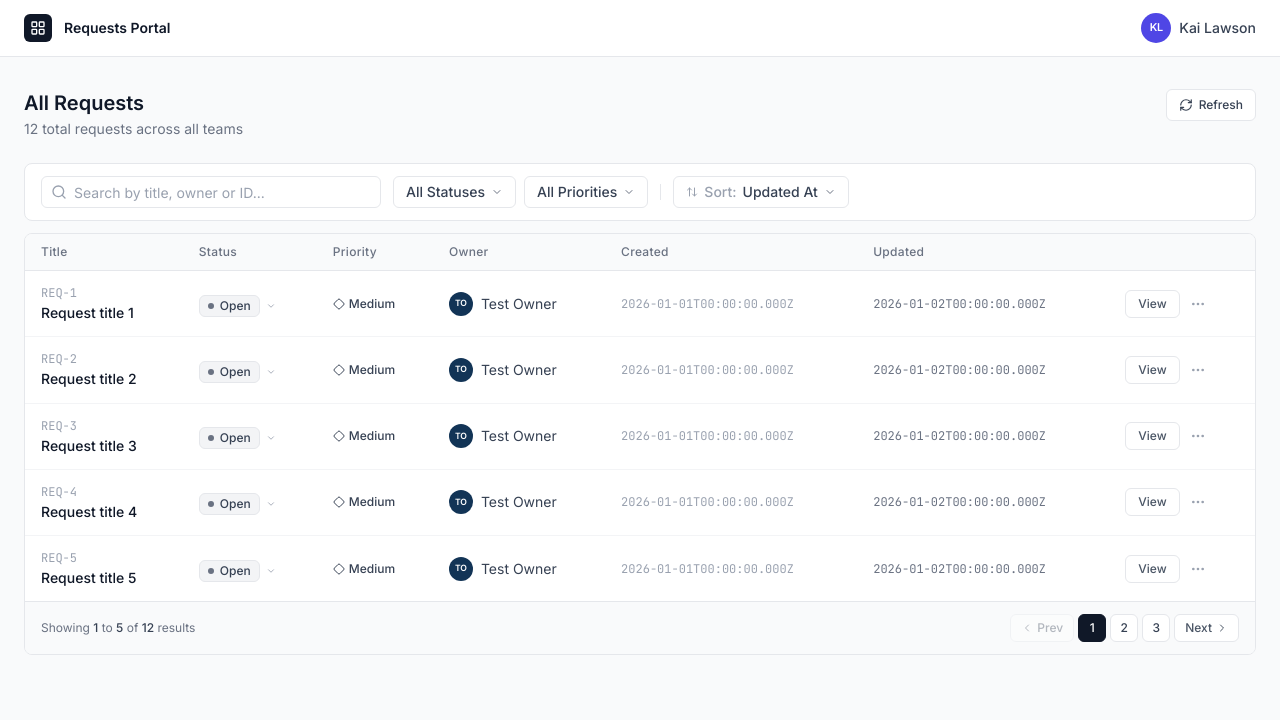
Test: RequestsListPage row actions › deletes a request from the row menu
This screenshot has width=1280, height=720.
Expected: the text "Request title 1" is shown, 41,304 -> 134,321
Click the button named "Row actions" in the row of "REQ-1". click: (1198, 304)
box: 1184,290 -> 1212,318
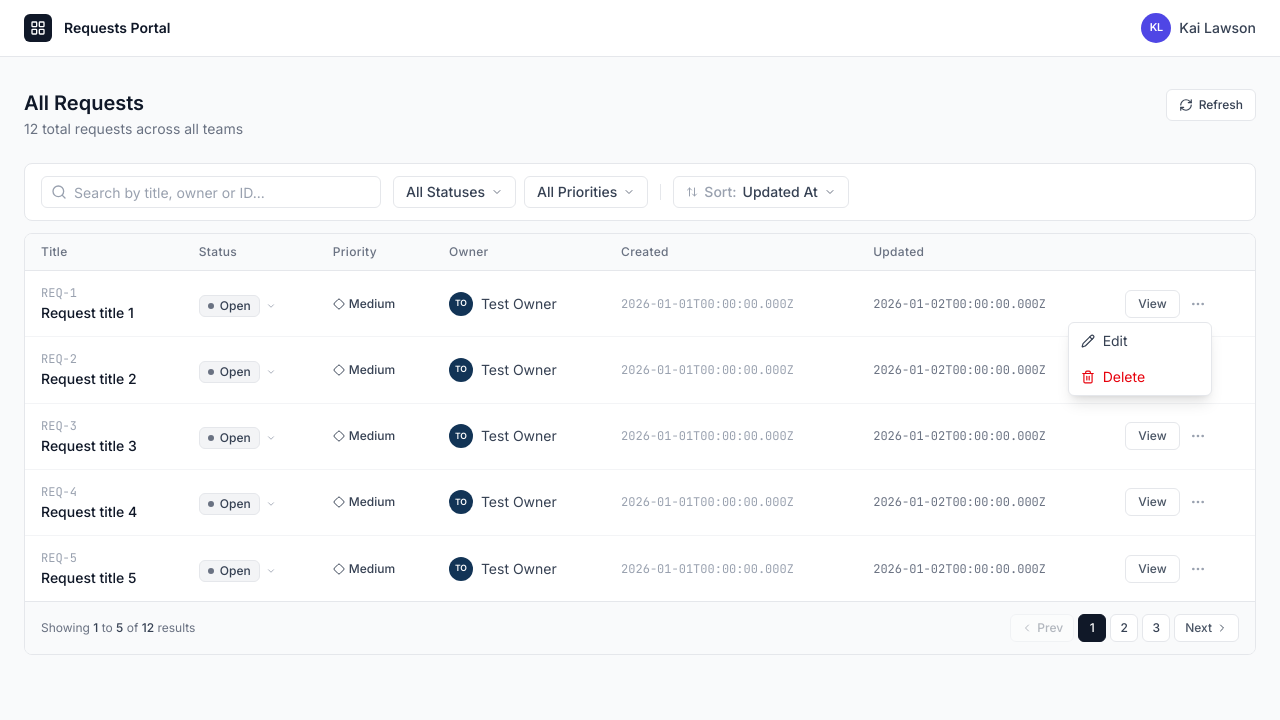
Click the menu item "Delete". click: (1140, 377)
box: 1069,359 -> 1211,395
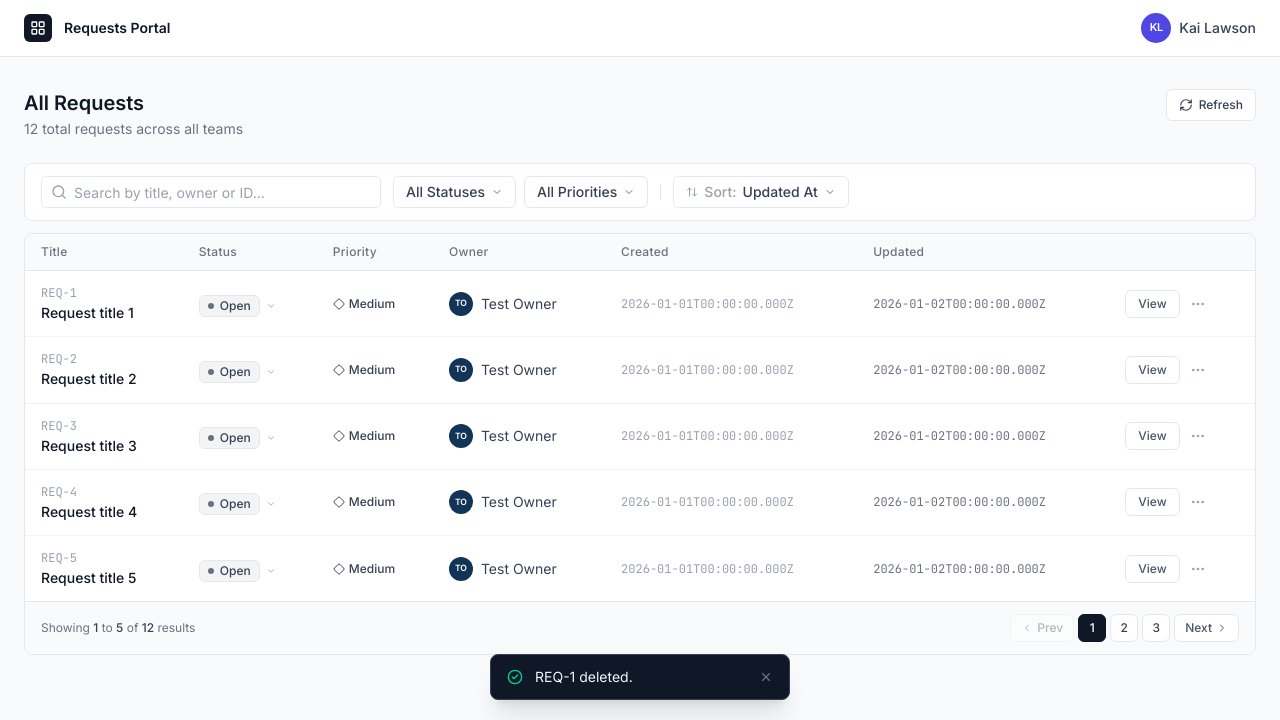
Expected: the text "REQ-1 deleted." is shown, 535,668 -> 633,685
